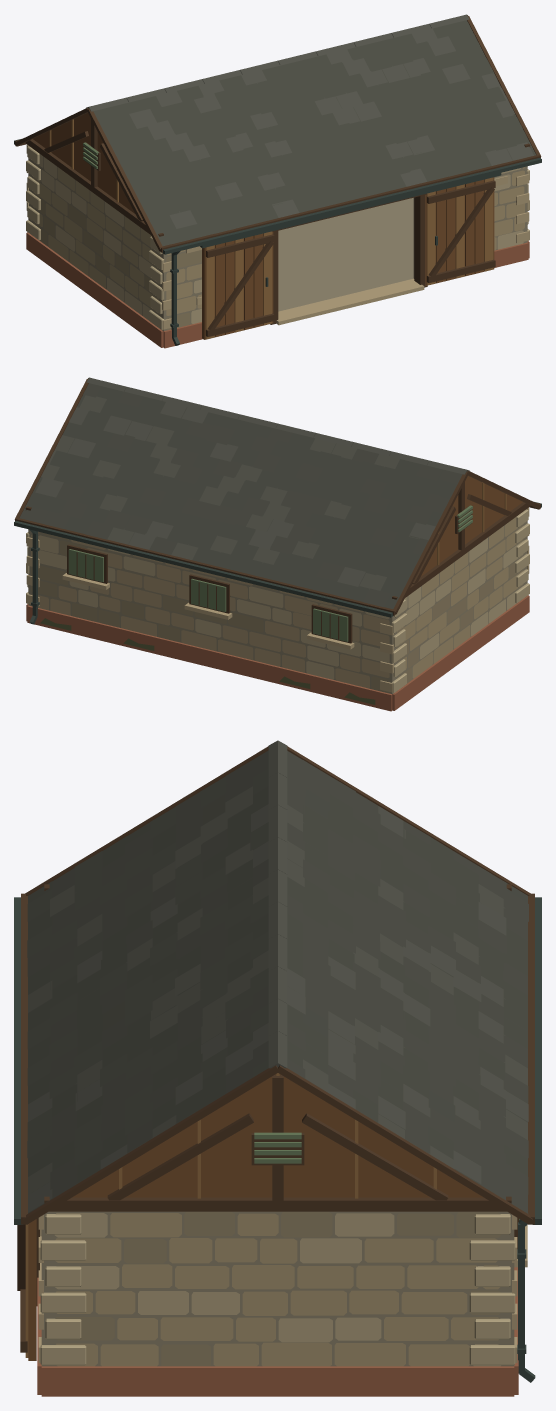
File: lwf_barn_v2.glb
The picture shows the model from 3 angles, top to bottom: view 1: azimuth 30°, elevation 25°; view 2: azimuth 150°, elevation 25°; view 3: azimuth 270°, elevation 25°; orthographic projection. The views are drawn at different scales.
Parts seen in each view (by area): view 1: LWF_Barn_Roof, LWF_Barn_Shell; view 2: LWF_Barn_Roof, LWF_Barn_Shell; view 3: LWF_Barn_Roof, LWF_Barn_Shell.
Boxes of the visible parts, box(x1,y1,x2,y2) form: LWF_Barn_Roof: box(14, 14, 541, 254); LWF_Barn_Shell: box(25, 113, 530, 348); LWF_Barn_Roof: box(14, 377, 541, 617); LWF_Barn_Shell: box(25, 476, 530, 711); LWF_Barn_Roof: box(14, 740, 541, 1224); LWF_Barn_Shell: box(17, 884, 535, 1396).
Bounding box in the file's own units: 14.65 × 7.1 × 10.06.
1 material, 1 textured.
